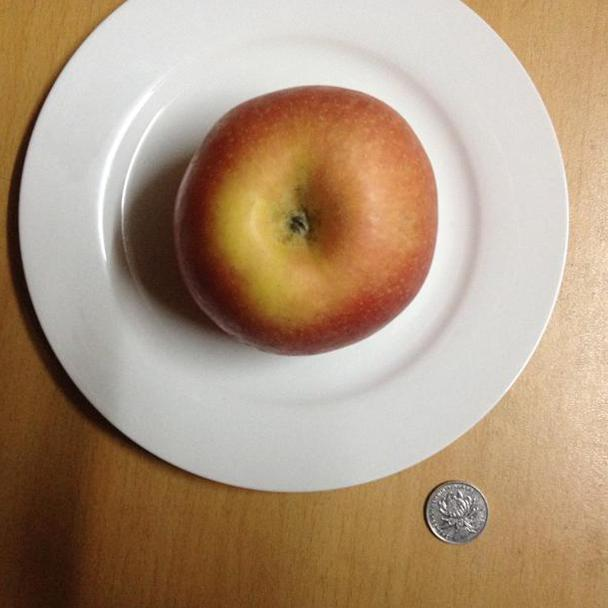apple: (173, 85, 440, 356)
